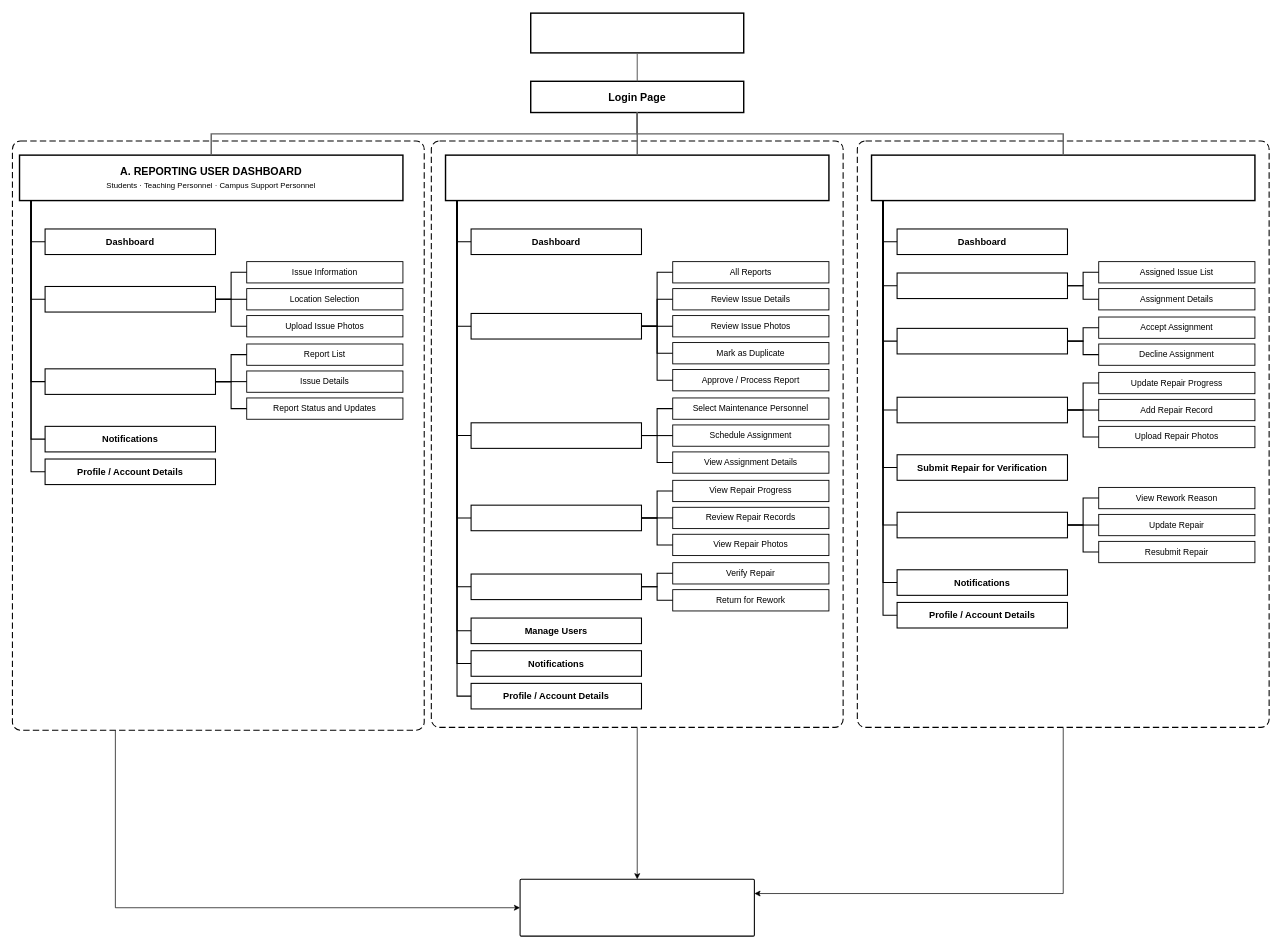
Some shapes in this 1282 by 949 pixel diagram are drawn without their labels. The shapes that lost their labels are listed below. From the top down, each one's centre as x and y in pixels, then its label:
point (637, 32): ParSuFix Website Partido State University Facility Fix
point (636, 177): B. ADMIN DASHBOARD Administrators (manage reports; cannot submit reports)
point (1062, 177): C. MAINTENANCE PERSONNEL DASHBOARD Maintenance Personnel
point (130, 299): Report an Issue
point (982, 285): Assigned Issues
point (556, 326): Manage Facility Issues
point (982, 341): Respond to Assignment
point (130, 381): My Reports
point (982, 409): Manage Repair
point (556, 435): Maintenance Assignments
point (556, 517): Monitor Repairs
point (982, 524): Returned Repairs
point (556, 586): Verify Completed Repairs
point (637, 907): logout
